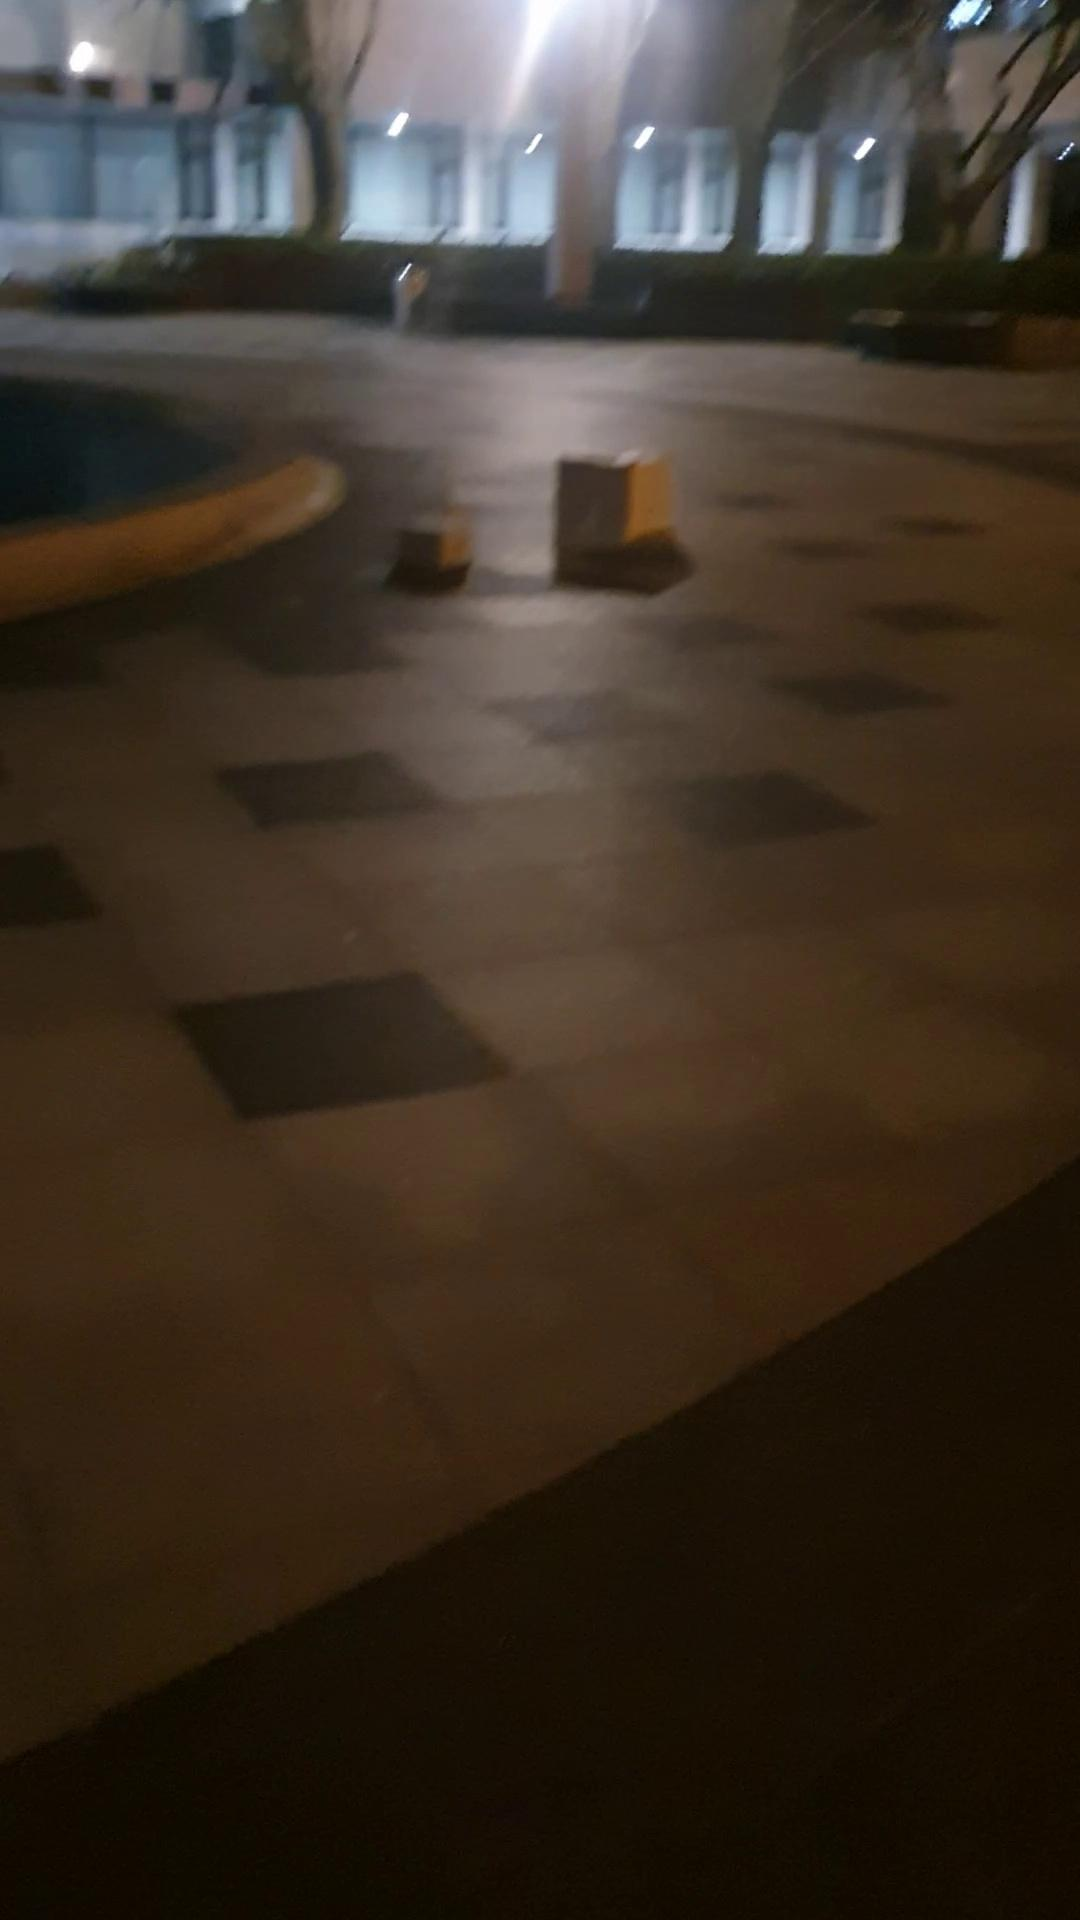Box: (553, 438, 684, 558), (386, 505, 477, 585)
